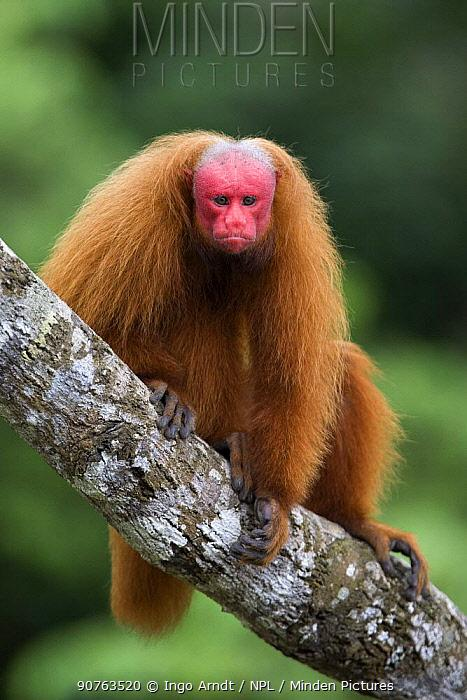monkey: (37, 131, 407, 562)
